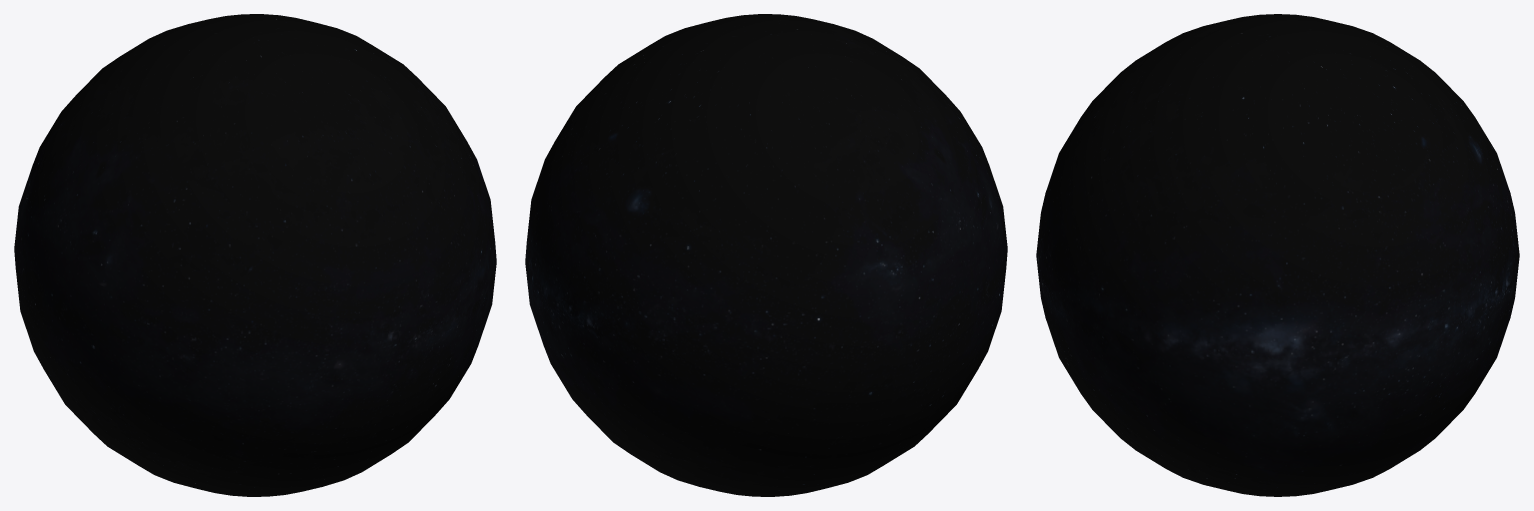
The model's file is Sun.glb.
3 views of the same model, side by side, from view 1: azimuth 30°, elevation 25°; view 2: azimuth 150°, elevation 25°; view 3: azimuth 270°, elevation 25° (orthographic).
Parts seen in each view (by area): view 1: Sphere; view 2: Sphere; view 3: Sphere.
Boxes of the visible parts, x1,y1,x2,y2 form: Sphere: [14, 14, 496, 496]; Sphere: [525, 14, 1007, 496]; Sphere: [1036, 14, 1519, 496].
Bounding box in the file's own units: 2000 × 2000 × 2000.
2 materials, 2 textured.
